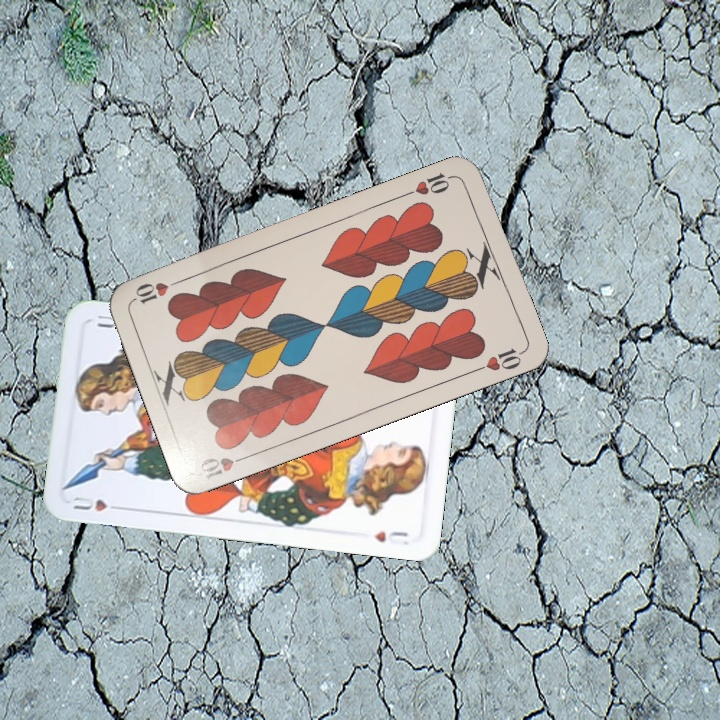H10: (196, 450, 253, 481), (401, 168, 458, 199)
HU: (69, 492, 126, 514)
